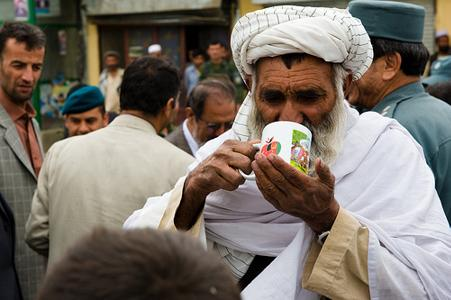person: (119, 7, 449, 300)
